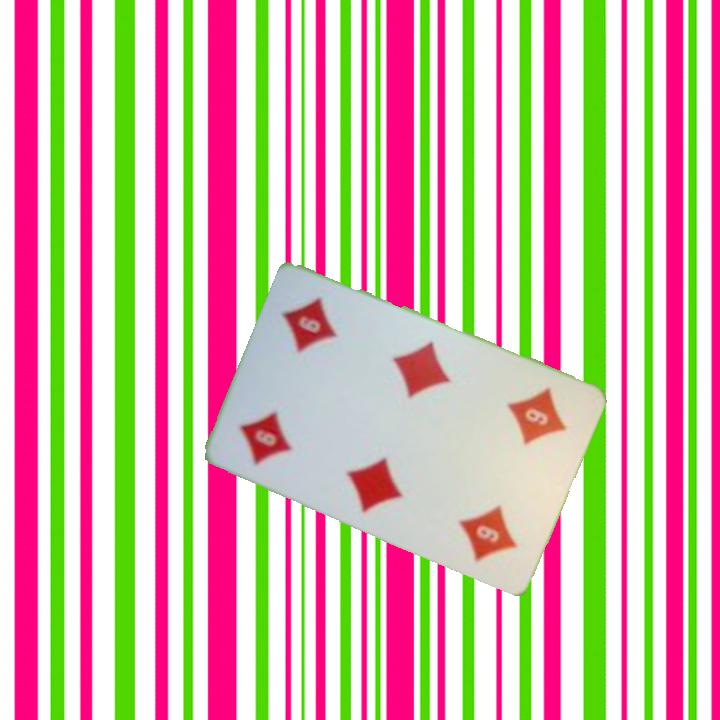d_6.png: (473, 367, 589, 491), (219, 364, 335, 487)
